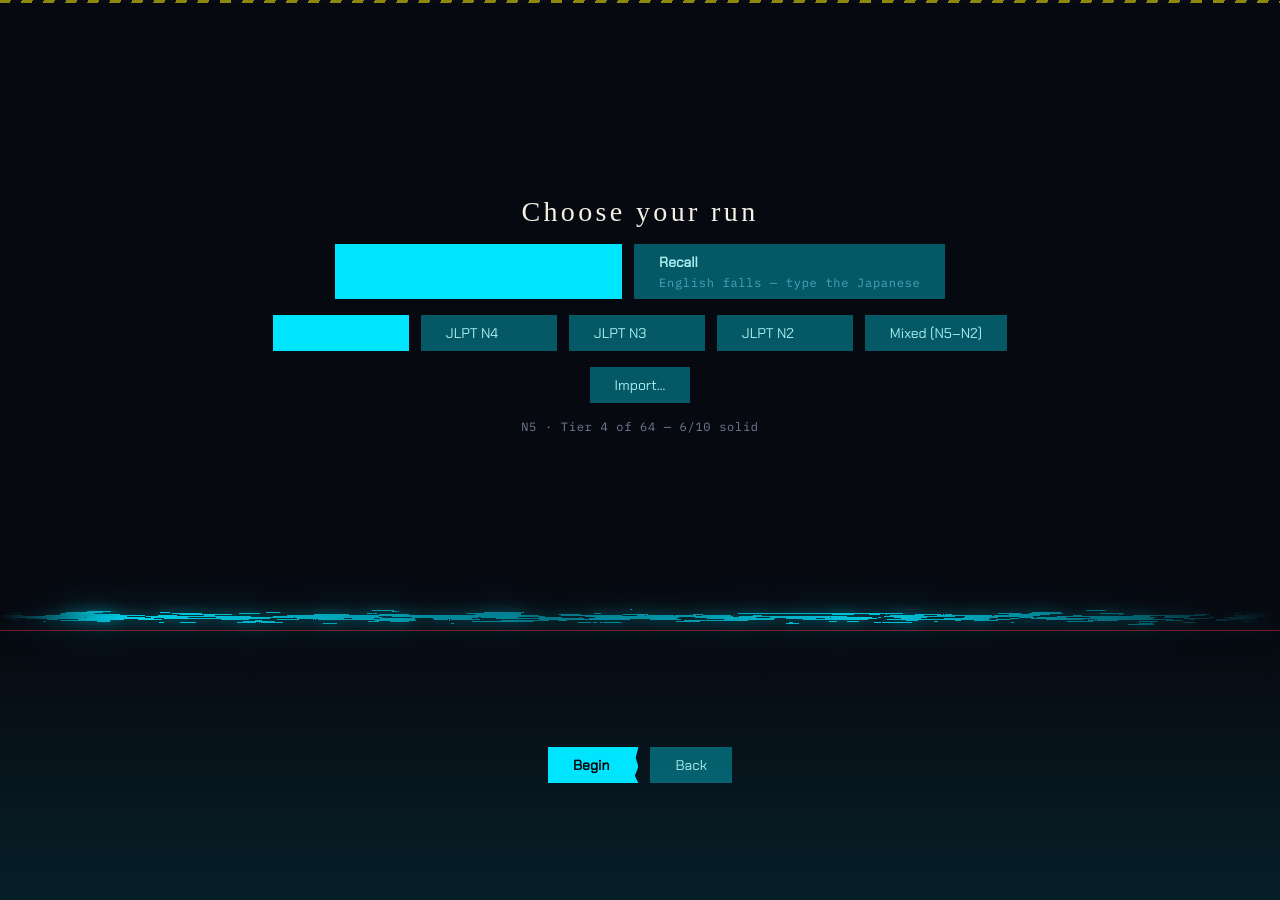
SetupScreen tier progress (spec §5.4) › renders one line per level for the mixed pool, in level-descending order regardless of arrival order
The width and height of the screenshot is (1280, 900).
Expected: the element with test id "tier-progress" reads "N5 · Tier 4 of 64 — 6/10 solid", [521,419,759,434]
Click the button with test id "pool-mixed": (936, 333) [865,315,1007,351]
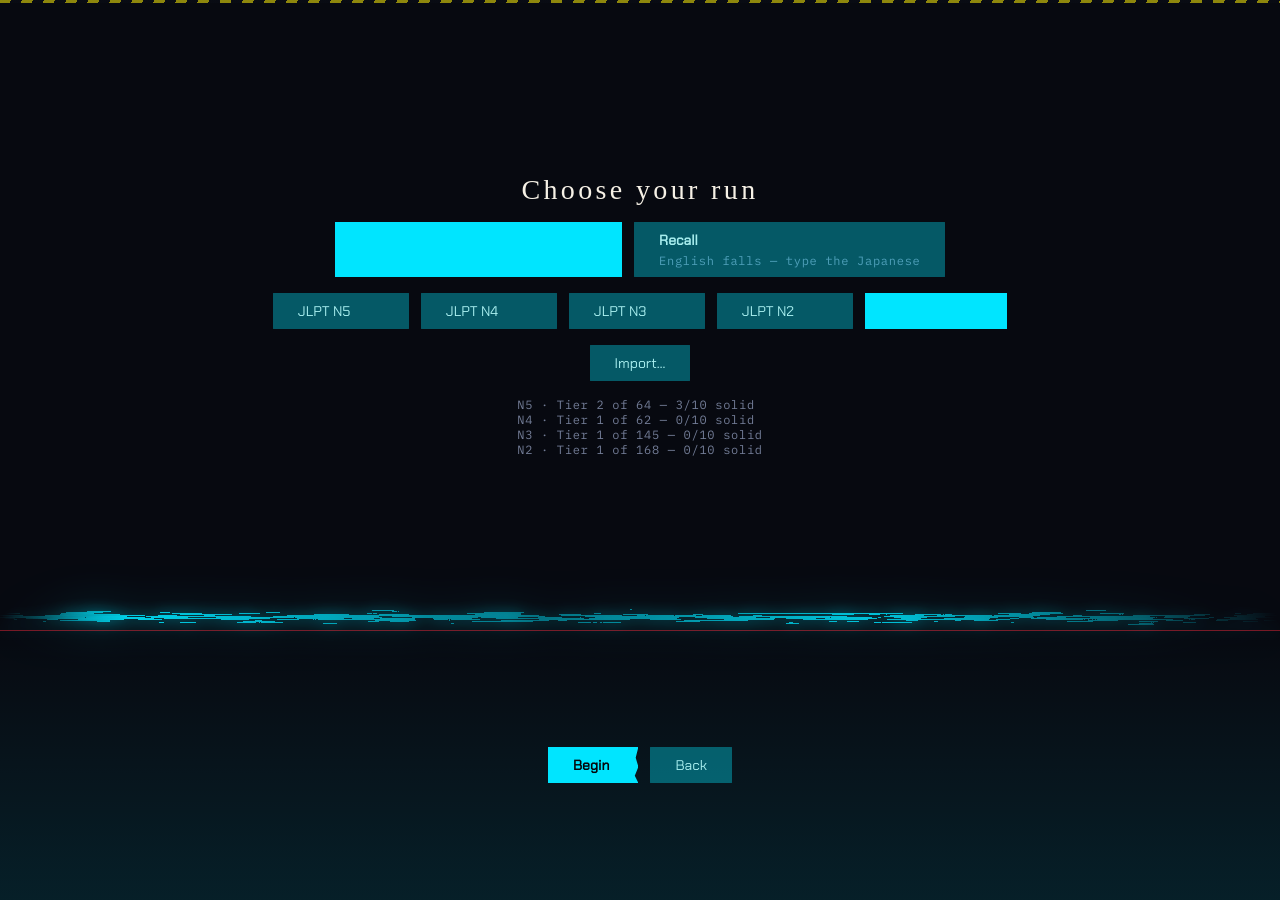
Result: the element with test id "tier-progress" shows "N5 · Tier 2 of 64 — 3/10 solid" at [517,396,755,412]
Result: the element with test id "tier-progress" shows "N2 · Tier 1 of 168" at [517,442,763,456]
